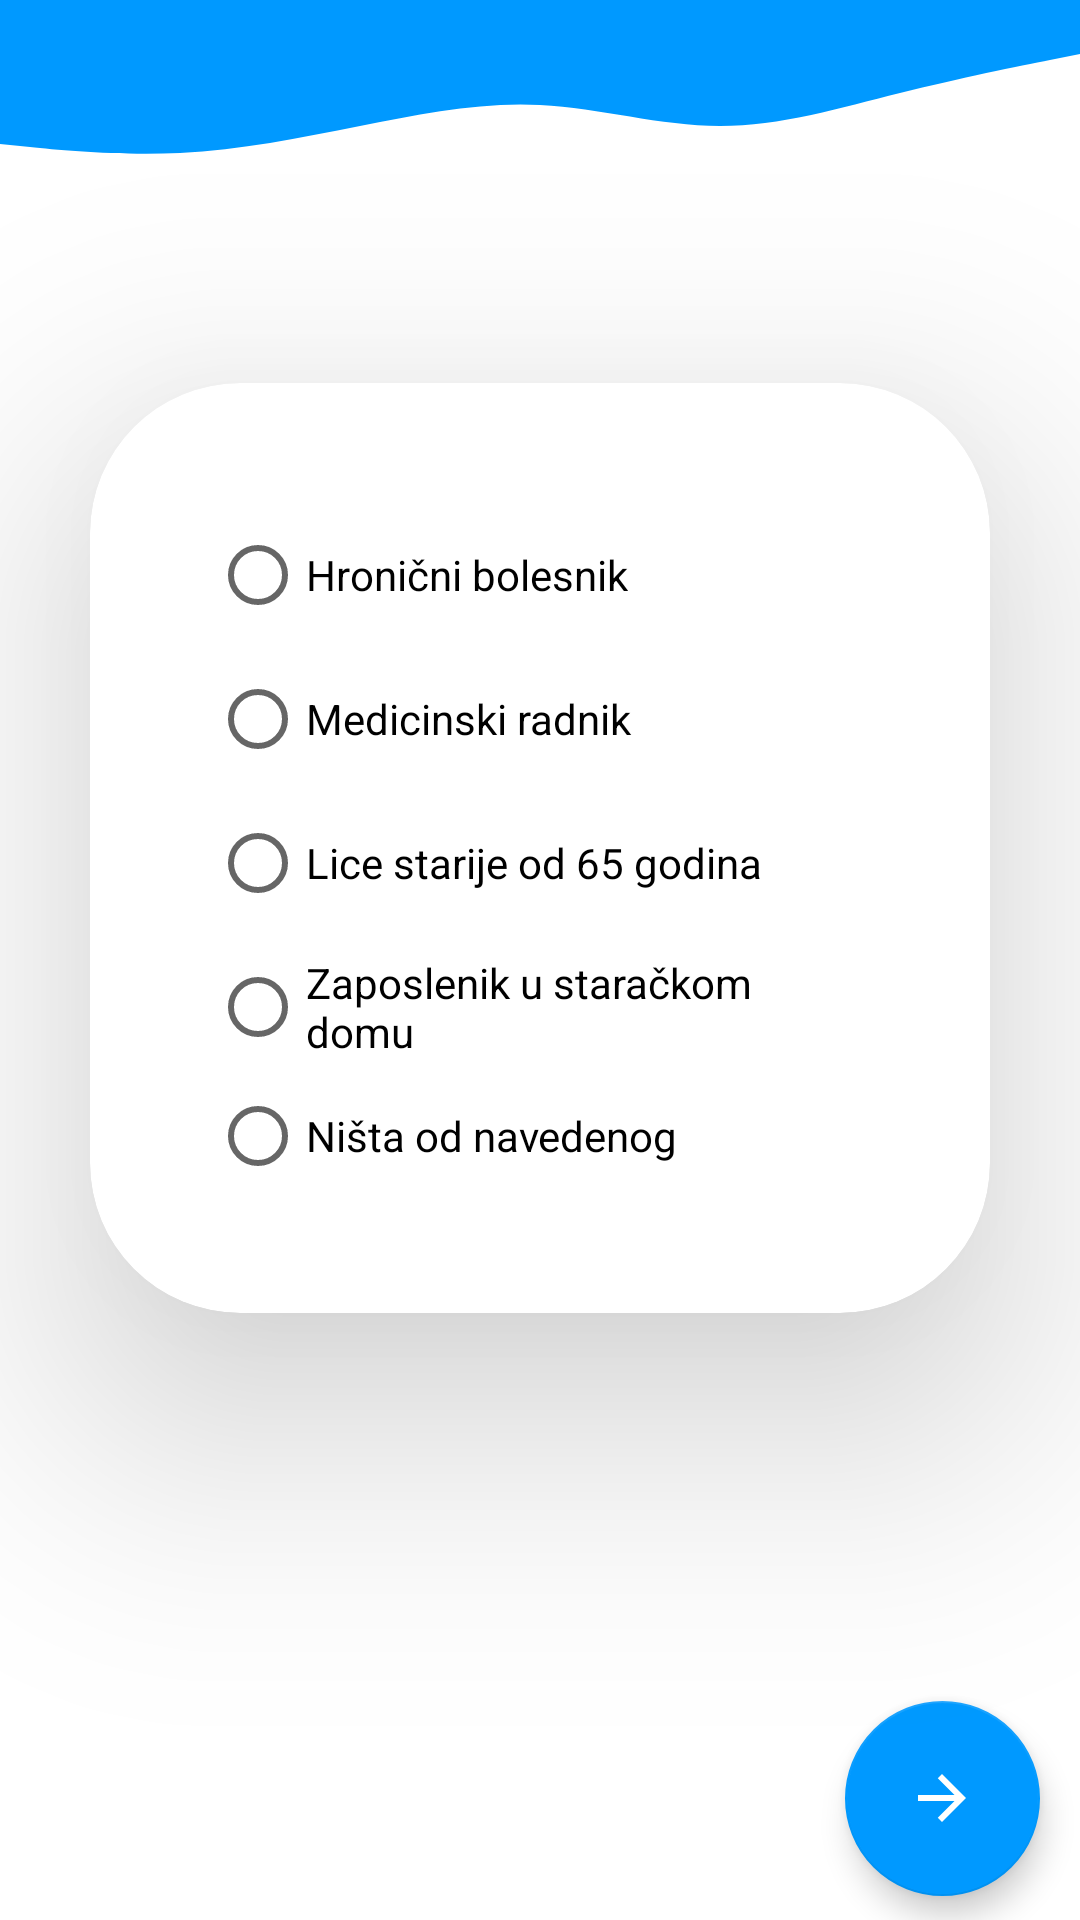

Named icons in this screenshot (1080px×1920px) and their bounding boxes, [left=x1, top=y1, right=x2, bottom=y2]:
arrow forward: [left=845, top=1701, right=1040, bottom=1896]
